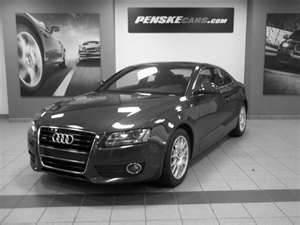car: (27, 61, 251, 194)
